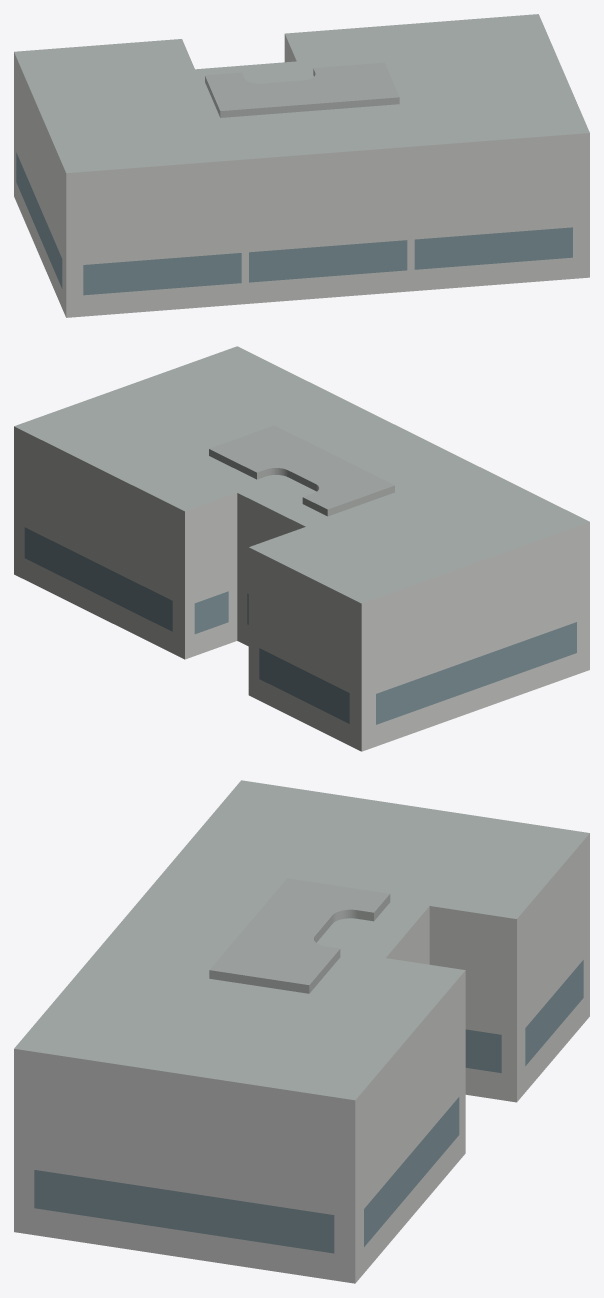
Rendered from fallback-dh-honor-hills-321.glb.
3 views of the same model, one above another, from view 1: azimuth 30°, elevation 25°; view 2: azimuth 150°, elevation 25°; view 3: azimuth 270°, elevation 25° (orthographic). The views are drawn at different scales.
Parts seen in each view (by area): view 1: fallback-dh-honor-hills-321; view 2: fallback-dh-honor-hills-321; view 3: fallback-dh-honor-hills-321.
Part boxes in pixels (left/top/right/bottom): fallback-dh-honor-hills-321: left=14, top=14, right=589, bottom=317; fallback-dh-honor-hills-321: left=14, top=346, right=589, bottom=751; fallback-dh-honor-hills-321: left=14, top=780, right=589, bottom=1283.
Bounding box in the file's own units: 28.6 × 8 × 21.75.
